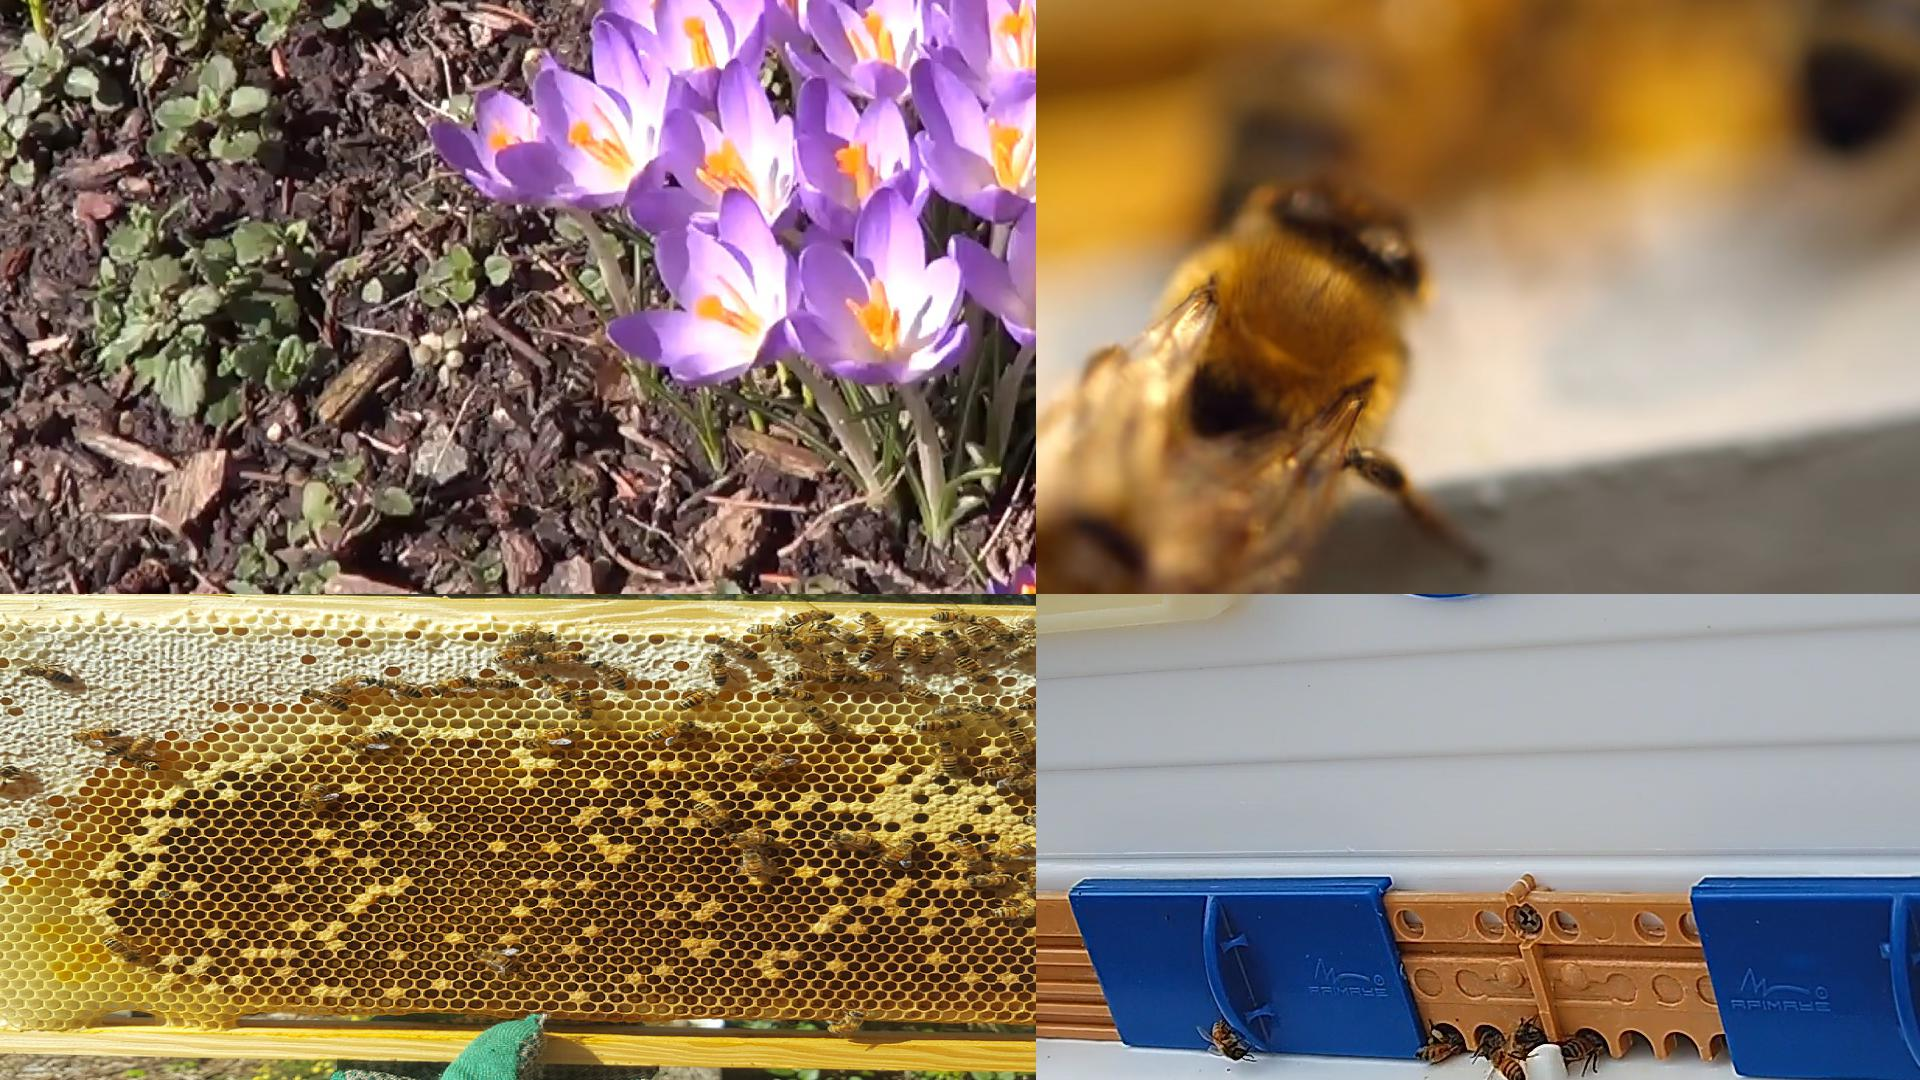bee: (1036, 179, 1424, 593), (1809, 0, 1919, 150), (1211, 1022, 1249, 1062), (692, 802, 736, 829), (1560, 1033, 1602, 1059), (1490, 1048, 1524, 1079), (592, 661, 626, 690), (880, 839, 914, 866), (303, 690, 348, 711), (980, 616, 1015, 642), (1503, 1026, 1539, 1052), (819, 622, 860, 645), (717, 637, 758, 659), (953, 657, 988, 683), (647, 721, 695, 740), (347, 731, 390, 750), (104, 939, 140, 963), (806, 705, 837, 732), (21, 667, 74, 683), (529, 728, 574, 746), (378, 679, 423, 698), (430, 675, 471, 695), (753, 754, 791, 775), (542, 674, 571, 702), (828, 1011, 864, 1034), (123, 736, 154, 761), (860, 612, 885, 644), (994, 843, 1031, 864), (981, 762, 1030, 778), (953, 837, 980, 866), (1480, 1026, 1503, 1058), (678, 690, 715, 709), (475, 949, 514, 968), (940, 630, 969, 655), (331, 676, 376, 692), (786, 611, 835, 625), (493, 647, 539, 662), (938, 741, 959, 773), (967, 626, 993, 651), (74, 728, 123, 741), (1005, 640, 1035, 661), (1007, 731, 1033, 756), (301, 785, 327, 808), (828, 651, 848, 683), (773, 686, 815, 700), (911, 719, 963, 731), (746, 622, 793, 636), (782, 670, 828, 683), (936, 702, 981, 715), (918, 632, 936, 663), (988, 707, 1017, 727), (836, 832, 876, 847), (728, 832, 775, 844), (1007, 771, 1035, 791), (742, 849, 762, 877), (508, 630, 554, 642), (537, 653, 588, 663), (711, 654, 728, 686), (782, 636, 823, 649), (893, 634, 913, 661), (575, 688, 592, 719), (992, 906, 1035, 918), (849, 671, 893, 683), (471, 679, 518, 690), (930, 612, 976, 622), (898, 684, 934, 698), (968, 876, 1011, 886), (105, 738, 131, 756), (858, 644, 881, 662), (1015, 618, 1034, 637), (0, 766, 17, 785), (135, 761, 160, 770), (1018, 698, 1035, 711), (1027, 869, 1035, 894)
pollenbee: (1416, 1026, 1464, 1060)
